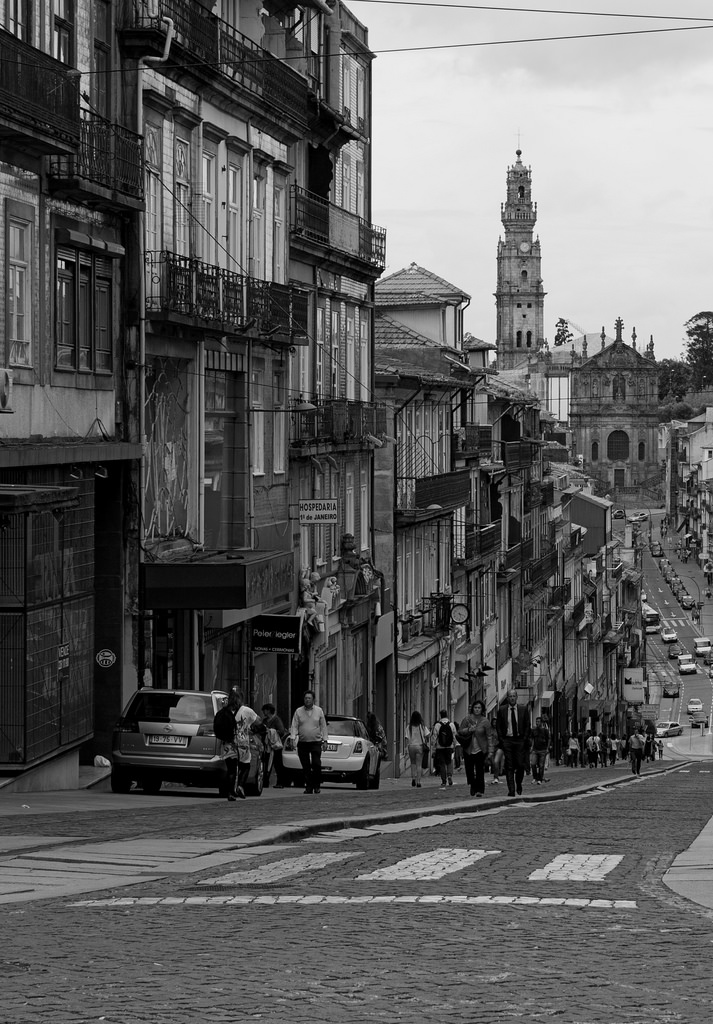clerigos: (493, 133, 548, 375)
